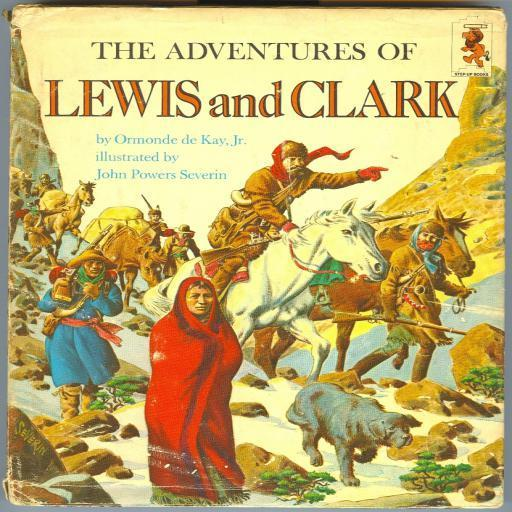horse: (140, 196, 387, 386), (252, 202, 476, 376), (98, 225, 168, 306), (34, 178, 98, 259)
